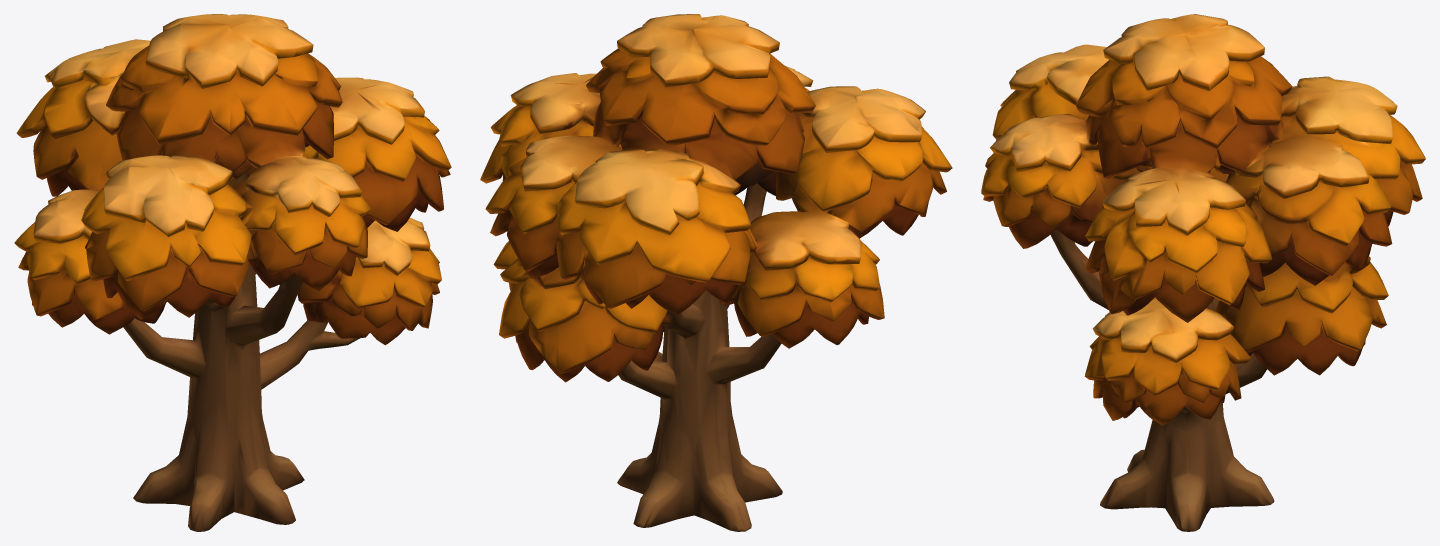
File: autumn-tree-a.glb
3 renders of one model, left to right at view 1: azimuth 30°, elevation 25°; view 2: azimuth 150°, elevation 25°; view 3: azimuth 270°, elevation 25°, orthographic.
Visible parts, largest first — view 1: node_0; view 2: node_0; view 3: node_0.
Part boxes in pixels (x1,y1,x2,y2): node_0: [14, 14, 451, 531]; node_0: [480, 14, 952, 531]; node_0: [981, 14, 1425, 531].
Size of the model in its own units: 0.9276 by 1.06 by 0.9264.
1 material, 1 textured.
